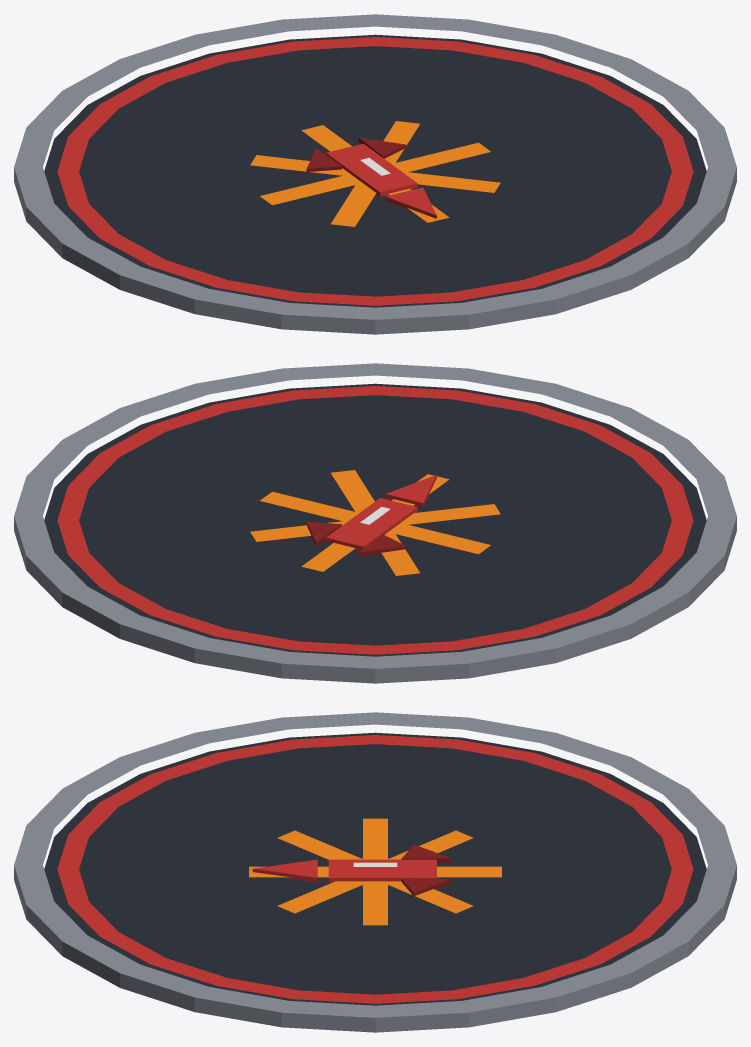
The model's file is rocket_soldier_common_area.glb.
The picture shows the model from 3 angles, top to bottom: view 1: azimuth 30°, elevation 25°; view 2: azimuth 150°, elevation 25°; view 3: azimuth 270°, elevation 25°; orthographic projection.
Parts seen in each view (by area): view 1: rocket_soldier_common_area; view 2: rocket_soldier_common_area; view 3: rocket_soldier_common_area.
Boxes of the visible parts, x1,y1,x2,y2 form: rocket_soldier_common_area: (14,14,736,334); rocket_soldier_common_area: (14,363,736,683); rocket_soldier_common_area: (14,712,736,1032).
Bounding box in the file's own units: 2 × 0.046 × 2.
Materials: 1 (1 with a texture image).
